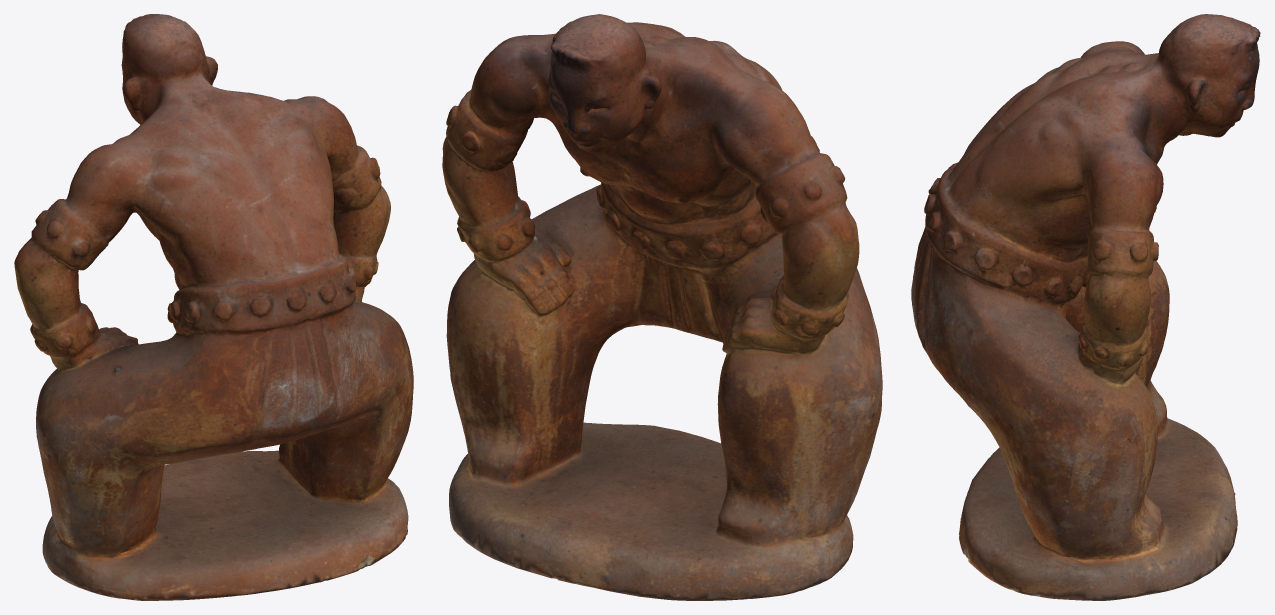
3 views of the same model, side by side, from view 1: azimuth 30°, elevation 25°; view 2: azimuth 150°, elevation 25°; view 3: azimuth 270°, elevation 25° (orthographic). The views are drawn at different scales.
Parts seen in each view (by area): view 1: 5_low.002; view 2: 5_low.002; view 3: 5_low.002.
Boxes of the visible parts, x1,y1,x2,y2 form: 5_low.002: (14, 14, 413, 600); 5_low.002: (442, 14, 882, 600); 5_low.002: (911, 14, 1260, 600).
Size of the model in its own units: 1.9 by 2.4 by 1.53.
1 material, 1 textured.
